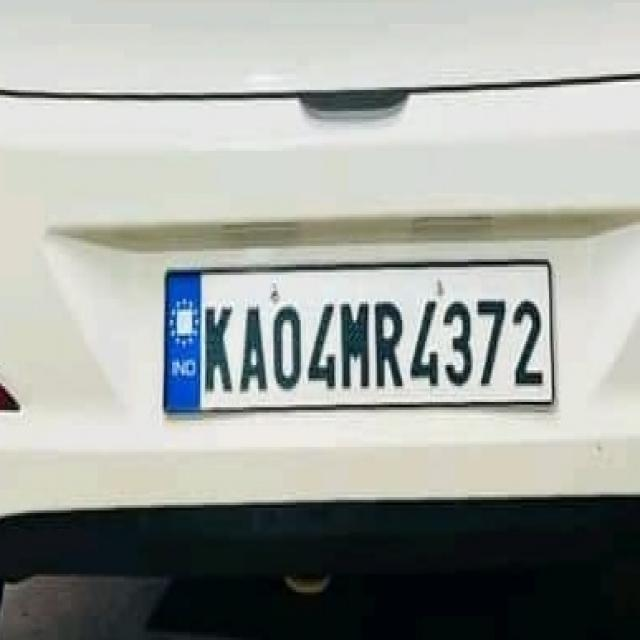0: (271, 297, 304, 394)
3: (442, 298, 476, 391)
4: (409, 298, 441, 396), (308, 296, 338, 388)
7: (479, 292, 509, 389)
A: (238, 294, 269, 401)
K: (203, 296, 235, 398)
M: (340, 297, 372, 397)
R: (372, 296, 406, 400)
